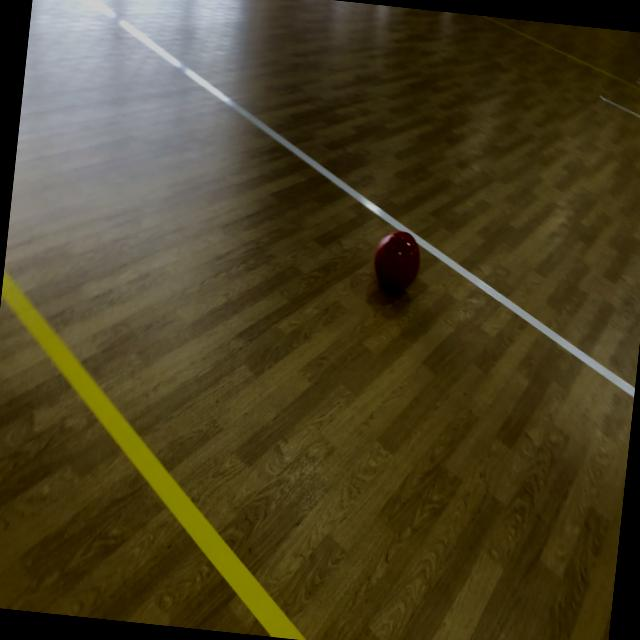red_ball: (371, 227, 424, 299)
